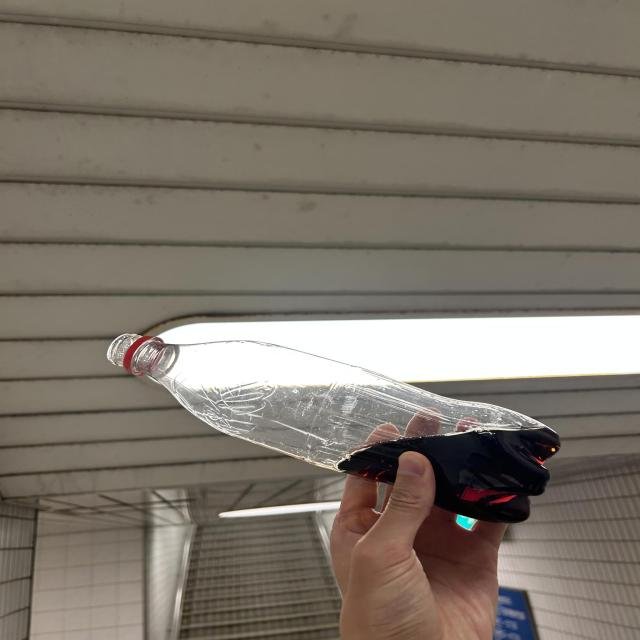medium: (108, 334, 560, 523)
